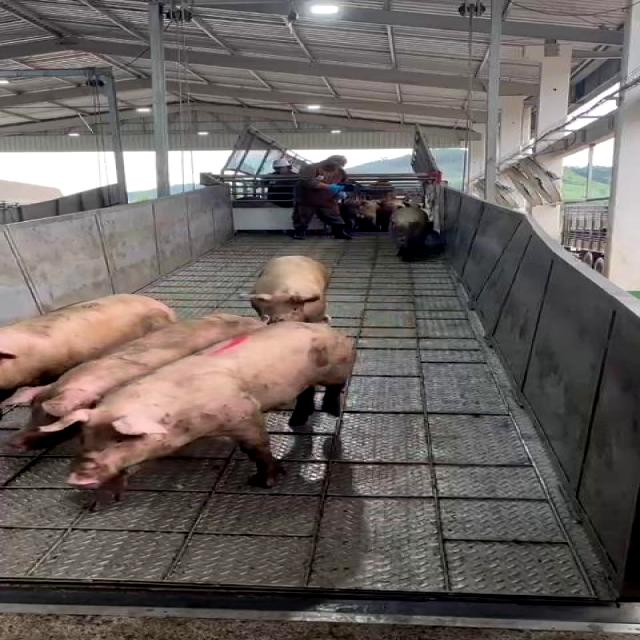pig: (47, 327, 348, 492), (2, 315, 255, 452), (0, 293, 175, 393), (253, 253, 333, 328), (392, 207, 433, 255)
